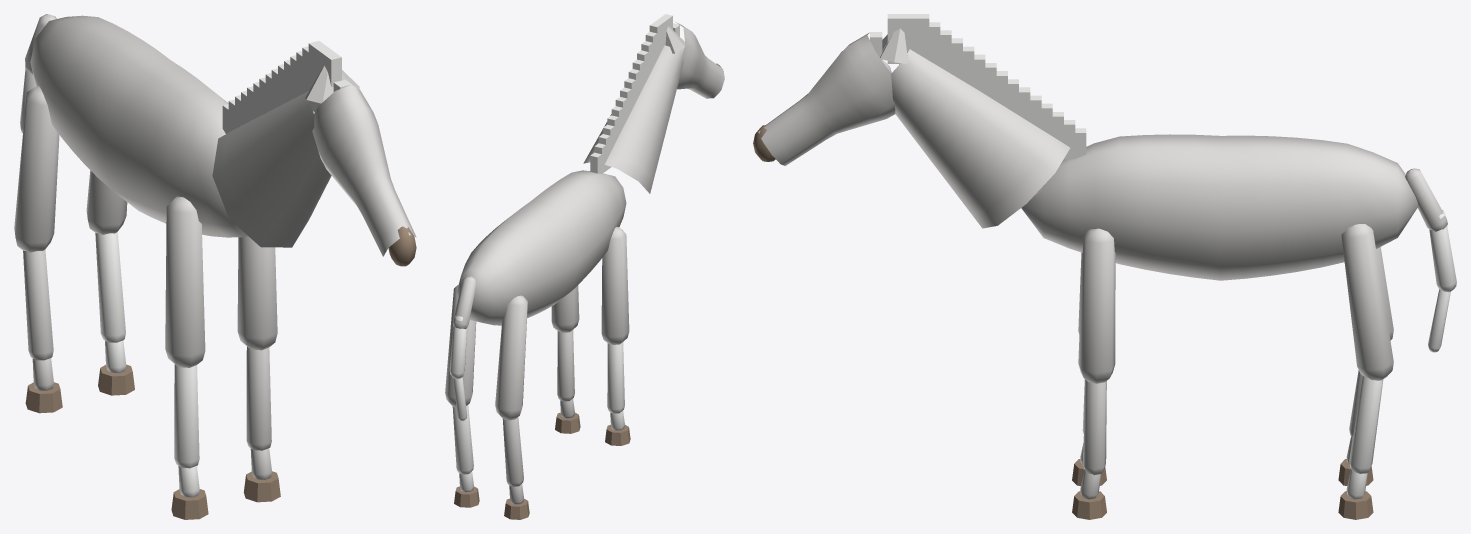
Rendered from horse-standing-grey.glb.
3 views of the same model, side by side, from view 1: azimuth 30°, elevation 25°; view 2: azimuth 150°, elevation 25°; view 3: azimuth 270°, elevation 25° (orthographic). The views are drawn at different scales.
Visible parts, largest first — view 1: horse-standing-grey; view 2: horse-standing-grey; view 3: horse-standing-grey.
Part boxes in pixels (x1=…): horse-standing-grey: x1=14, y1=14, x2=416, y2=519; horse-standing-grey: x1=445, y1=14, x2=724, y2=519; horse-standing-grey: x1=753, y1=14, x2=1456, y2=519.
Size of the model in its own units: 0.4689 by 2.17 by 2.89.
